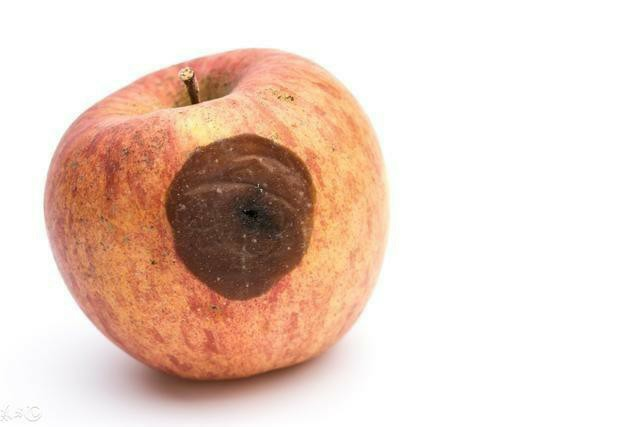rotten_apple: (46, 49, 387, 380)
